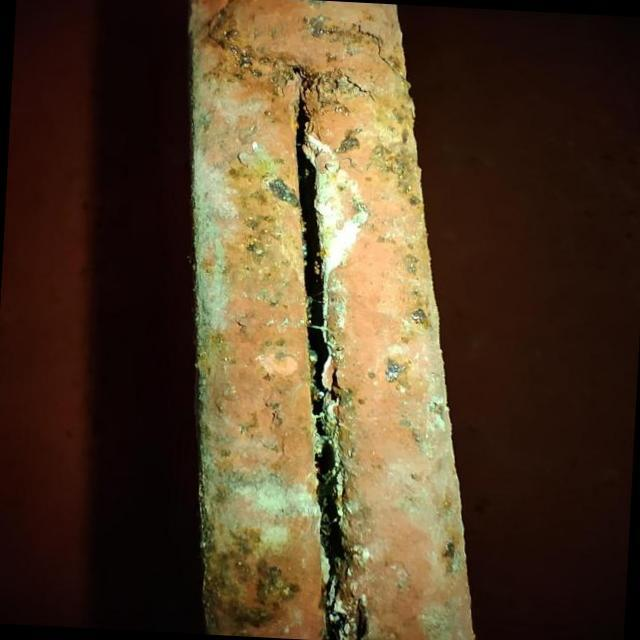defect: (290, 91, 372, 640), (353, 21, 400, 75), (339, 71, 380, 105)
